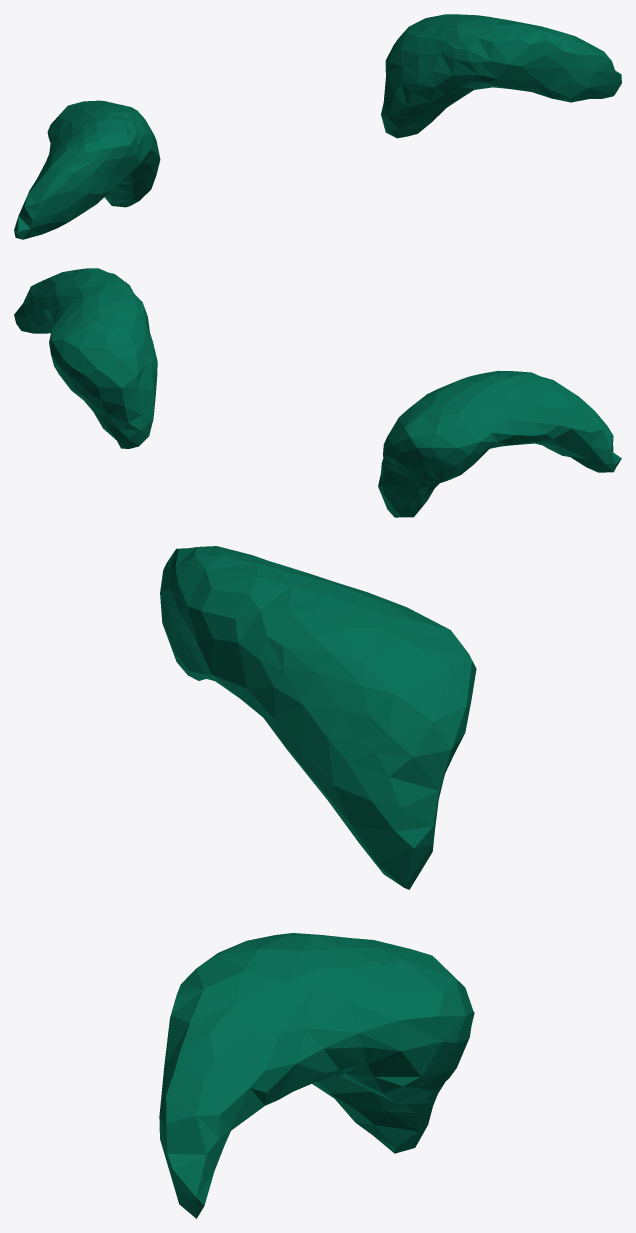
Rendered from 107-OPt-occipitoparietal area-('0.0000', '0.4980', '0.3804').obj.
3 views of the same model, one above another, from view 1: azimuth 30°, elevation 25°; view 2: azimuth 150°, elevation 25°; view 3: azimuth 270°, elevation 25° (orthographic). The views are drawn at different scales.
Size of the model in its own units: 176 by 35.86 by 40.04.
